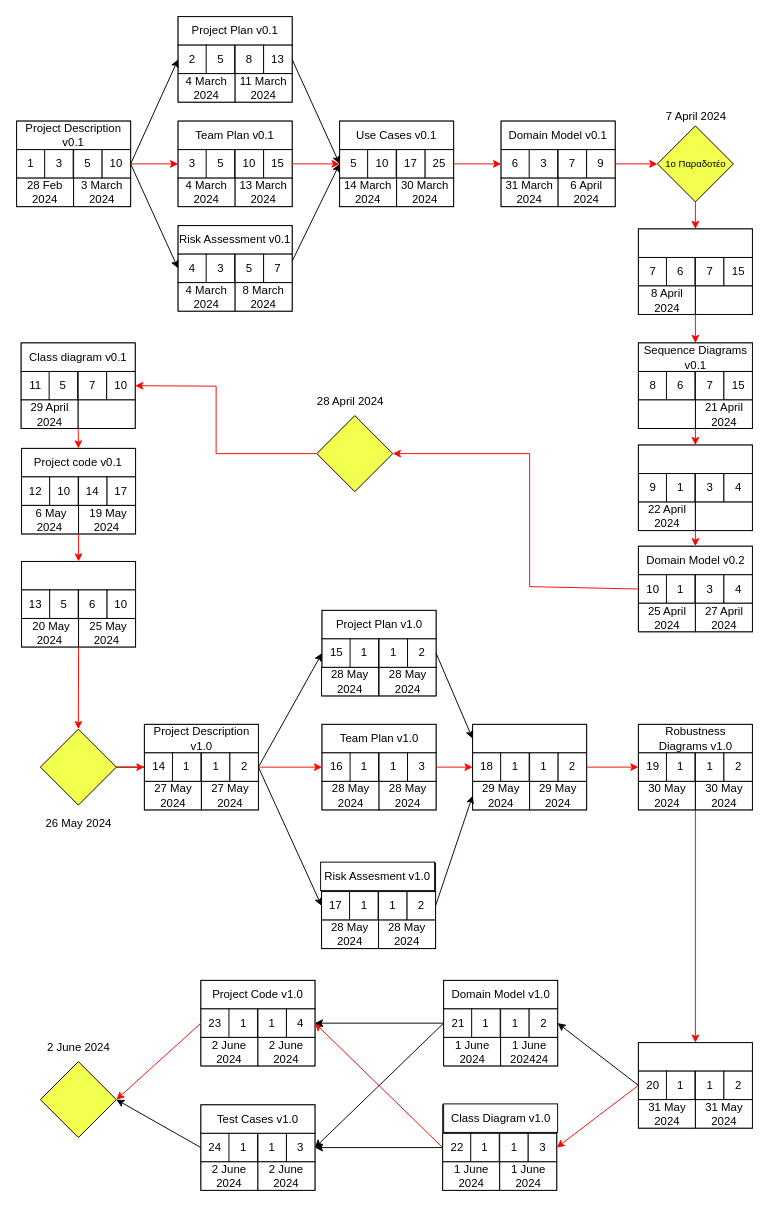
Image size: 770x1207. Some labels were removed from this diagram. Here are the shapes that lost their labels. From the top down, the centre of each, then its label:
At point (694, 242): "Robustness Diagrams v0.1".
At point (723, 299): "14 April 2024".
At point (106, 413): "5 May 2024".
At point (666, 413): "15 April 2024".
At point (354, 453): "2o Παραδοτέο".
At point (694, 459): "Use Cases v0.2".
At point (723, 516): "24 April 2024".
At point (78, 575): "Test cases v0.1".
At point (529, 738): "Use Cases v1.0".
At point (77, 766): "3o Παραδοτέο".
At point (694, 1056): "Sequence Diagrams v1.0".
At point (77, 1099): "4o Παραδοτέο".
